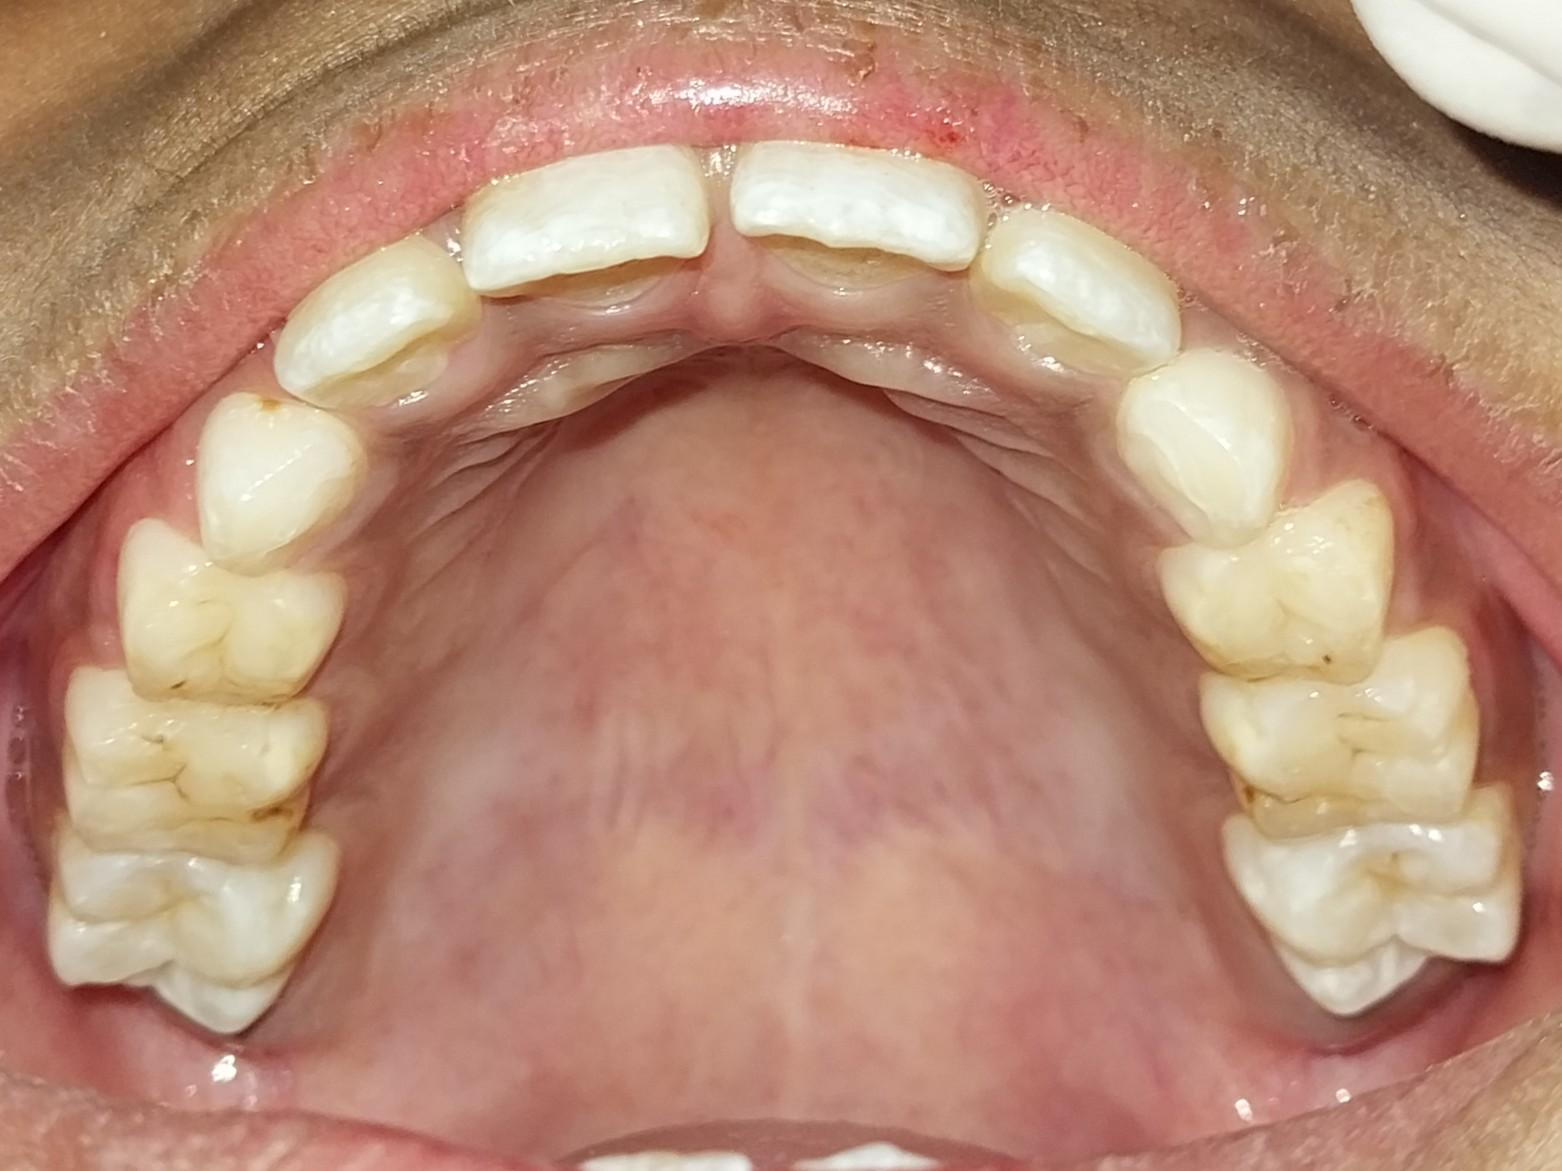d: (64, 674, 326, 869)
